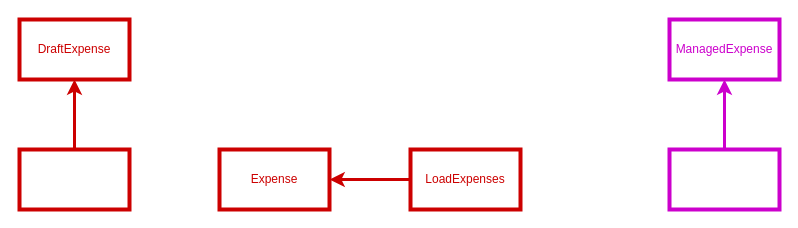
This 798x228 diagram has some shape labels left out. The shapes that lost their labels are listed below. From the top down, each one's centre as x and y in pixels, then its label:
At (74,179): "SaveExpense".
At (724,179): "SwiftDataStore".
